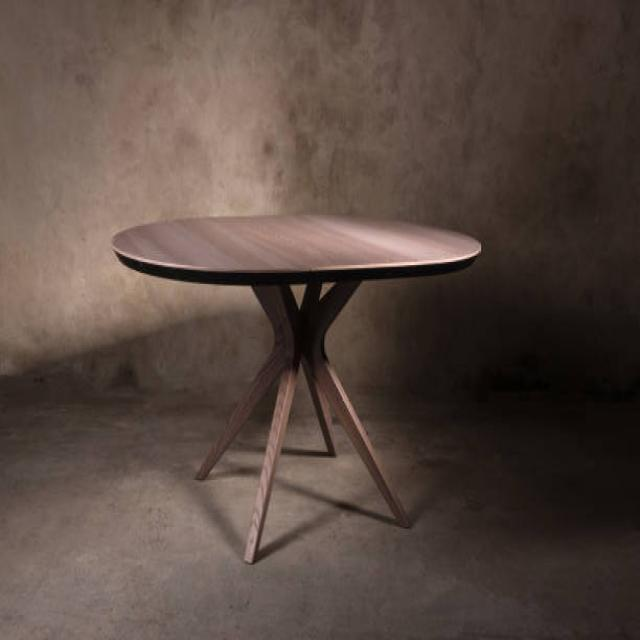table: (110, 210, 482, 565)
